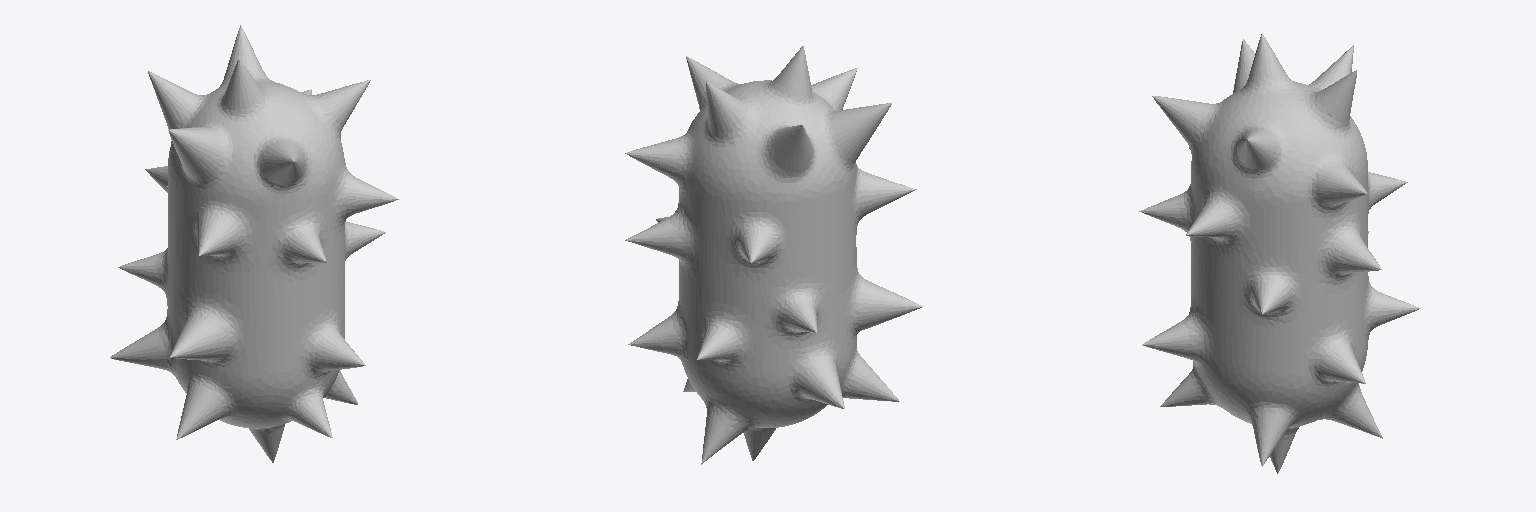
The model's file is pickle.obj.
The picture shows the model from 3 angles: view 1: azimuth 30°, elevation 25°; view 2: azimuth 150°, elevation 25°; view 3: azimuth 270°, elevation 25°; orthographic projection.
Visible parts, largest first — view 1: Sphere; view 2: Sphere; view 3: Sphere.
Part boxes in pixels (x1,y1,x2,y2): Sphere: (110, 25, 398, 462); Sphere: (625, 46, 922, 464); Sphere: (1139, 33, 1420, 473).
Bounding box in the file's own units: 3.15 × 5.22 × 3.17.